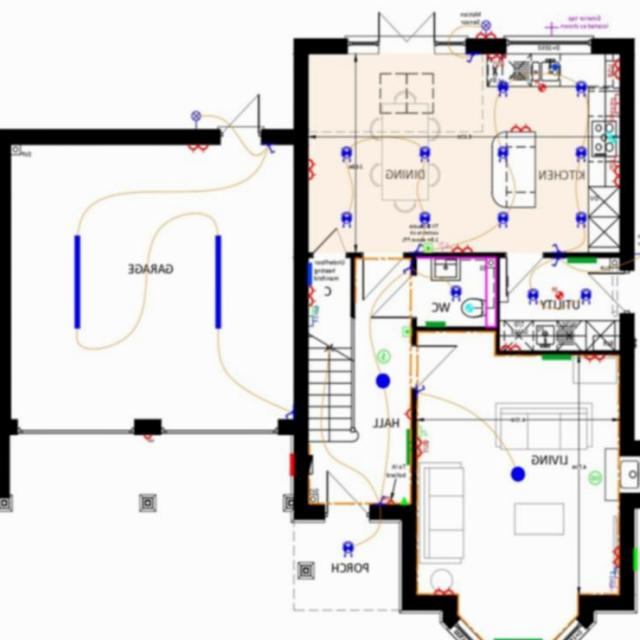BT Entry Point: (401, 496, 409, 504)
Cat 6 Data Socket: (310, 306, 320, 326), (610, 566, 620, 586)
Ceiling Mounted Continuous Extract FanWith Boost Mode Activated By Light Switch: (466, 304, 475, 310)
Ceiling Mounted Continuous Extract FanWith Local Boost Switch: (536, 79, 548, 91), (552, 286, 564, 298)
Co-Ax TV Socket: (439, 241, 453, 252), (610, 577, 621, 591)
Consumer Unit: (310, 454, 314, 473)
Double Socket: (433, 586, 456, 594), (612, 167, 621, 187), (188, 144, 210, 152), (310, 158, 318, 179), (511, 123, 532, 131), (478, 30, 498, 38), (586, 354, 606, 362), (454, 244, 474, 252), (612, 546, 620, 566), (309, 286, 317, 304), (502, 342, 522, 349)
Electric Meter Box: (290, 452, 296, 476)
External Wall Light: (192, 110, 202, 128), (482, 20, 491, 34), (636, 248, 640, 258)
Fused spur: (384, 495, 395, 503)
Gas Meter Box: (635, 547, 638, 571)
Grid Switch: (611, 102, 620, 121)
Hob Switch: (611, 94, 621, 105)
Light Switch: (466, 53, 477, 62), (415, 242, 424, 251), (267, 144, 276, 152), (286, 409, 294, 418), (553, 243, 561, 252), (552, 257, 560, 266), (419, 385, 427, 393), (380, 495, 388, 503), (404, 265, 411, 273)
Low Energy Downlighter: (576, 79, 588, 97), (576, 145, 588, 162), (528, 288, 540, 304), (498, 145, 509, 162), (421, 145, 432, 162), (576, 211, 587, 227), (498, 211, 509, 227), (342, 145, 352, 162), (421, 211, 432, 226), (499, 80, 509, 96), (342, 211, 352, 227), (582, 288, 592, 304), (344, 541, 354, 557), (452, 285, 462, 300)
Low Energy Pendant Light: (512, 465, 526, 481), (377, 373, 391, 387)
Mains Wired Smoke Detector: (378, 350, 391, 362)
Outside Socket: (144, 433, 155, 442)
Outside Tap: (546, 20, 558, 34)
Oven Switch: (611, 156, 620, 168)
Programmable Room Thermostat: (404, 326, 412, 336), (425, 243, 433, 252)
Radiator: (407, 428, 412, 465), (543, 354, 573, 360), (568, 257, 598, 262), (495, 637, 543, 640), (426, 321, 446, 325)
Recirculating Extractor Fan: (606, 129, 618, 142)
Single Socket: (404, 408, 412, 418)
Telephone Socket: (418, 425, 429, 436), (310, 306, 320, 316)
Twin LED Strip Light: (76, 234, 82, 329), (216, 234, 222, 328)
USB Double Socket: (608, 58, 620, 80), (418, 436, 430, 456), (488, 54, 507, 66)
Underfloor Heating Manifold: (310, 262, 313, 285)
Water Entry Position: (552, 63, 560, 69)
